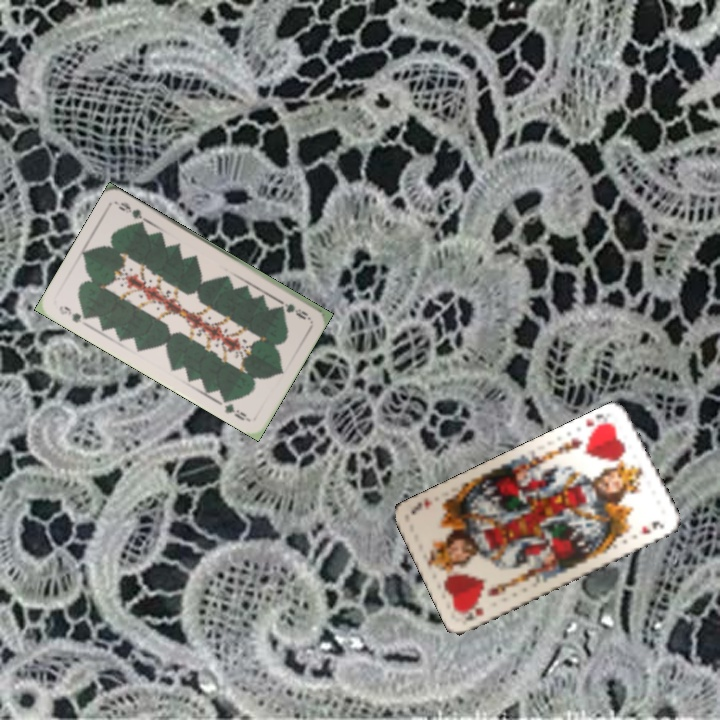G9: (275, 296, 312, 322), (55, 302, 92, 326)
HK: (581, 410, 615, 437), (459, 603, 487, 625)
